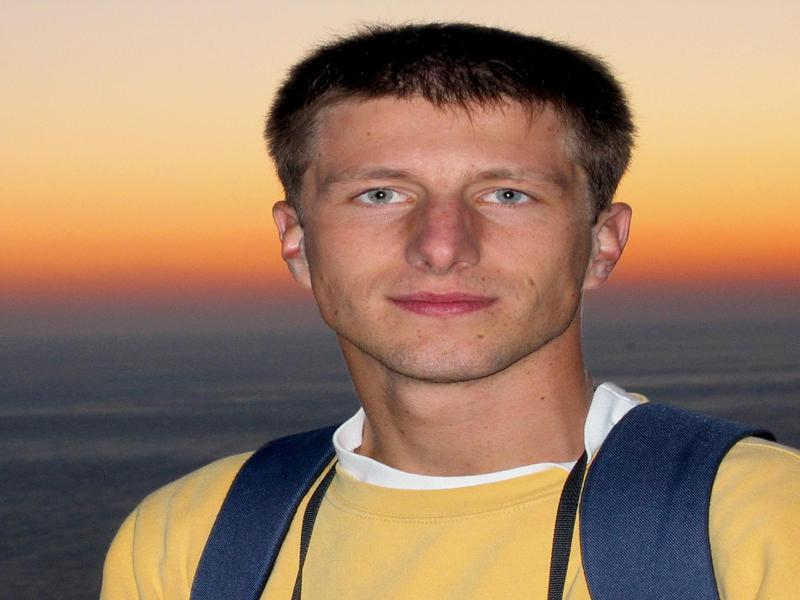person: (103, 22, 794, 600)
